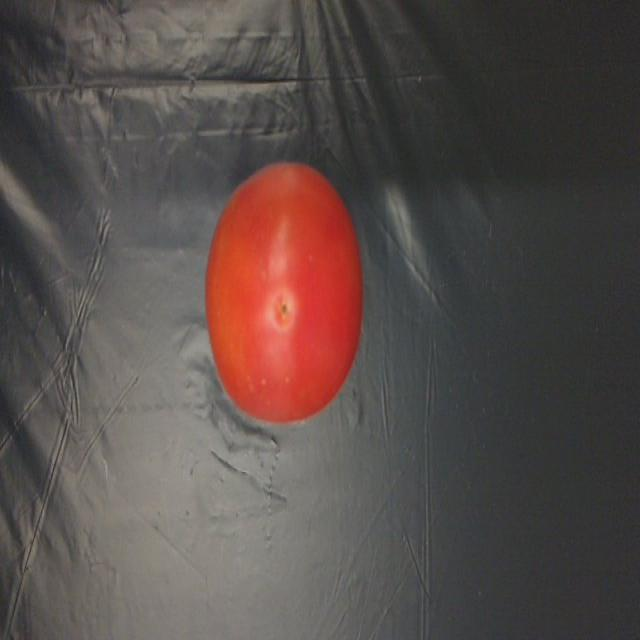kirmizi: (207, 170, 383, 430)
